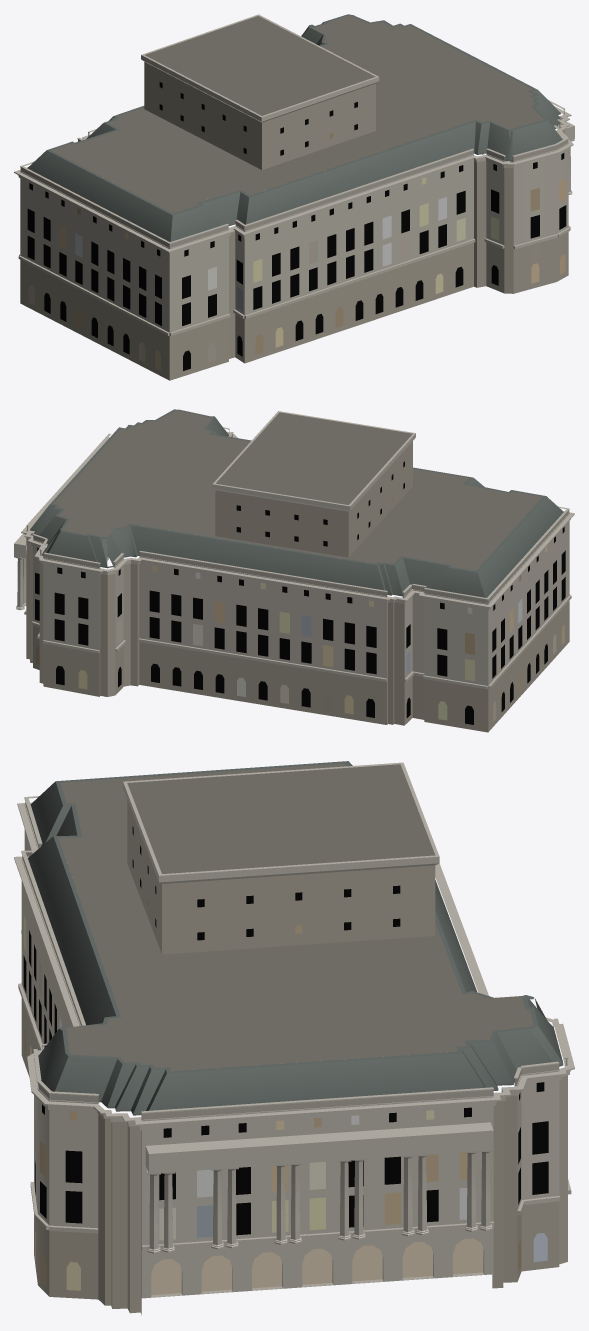
File: opera_lod1.glb
3 views of the same model, one above another, from view 1: azimuth 30°, elevation 25°; view 2: azimuth 150°, elevation 25°; view 3: azimuth 270°, elevation 25° (orthographic). The views are drawn at different scales.
Parts seen in each view (by area): view 1: L1_stone, L1_roof, L1_paint, L1_win; view 2: L1_stone, L1_roof, L1_paint, L1_win; view 3: L1_stone, L1_roof, L1_paint, L1_win, L1_shop.
Boxes of the visible parts, left/top/right/bottom form: L1_stone: left=14, top=14, right=574, bottom=380; L1_roof: left=51, top=15, right=543, bottom=213; L1_paint: left=27, top=14, right=562, bottom=241; L1_win: left=27, top=82, right=566, bottom=370; L1_stone: left=14, top=411, right=574, bottom=732; L1_roof: left=53, top=410, right=542, bottom=570; L1_paint: left=30, top=409, right=563, bottom=597; L1_win: left=35, top=461, right=565, bottom=724; L1_stone: left=14, top=762, right=574, bottom=1315; L1_roof: left=58, top=763, right=533, bottom=1071; L1_paint: left=28, top=761, right=563, bottom=1115; L1_win: left=23, top=826, right=548, bottom=1290; L1_shop: left=151, top=1238, right=483, bottom=1294.
Size of the model in its own units: 114 by 47 by 76.99.
